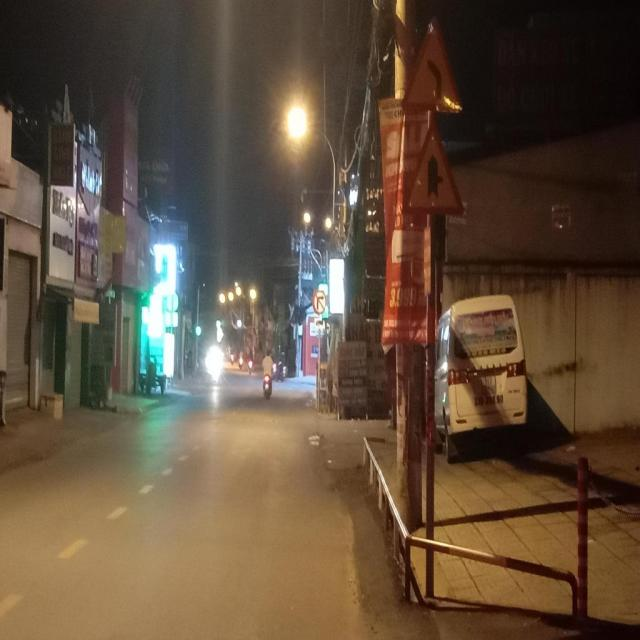cam_re_phai: (311, 290, 327, 314)
cho_ngoat_nguy_hiem_ben_trai: (400, 11, 464, 113)
giao_nhau_voi_duong_khong_uu_tien: (401, 115, 467, 216)
khac: (314, 318, 326, 330)
